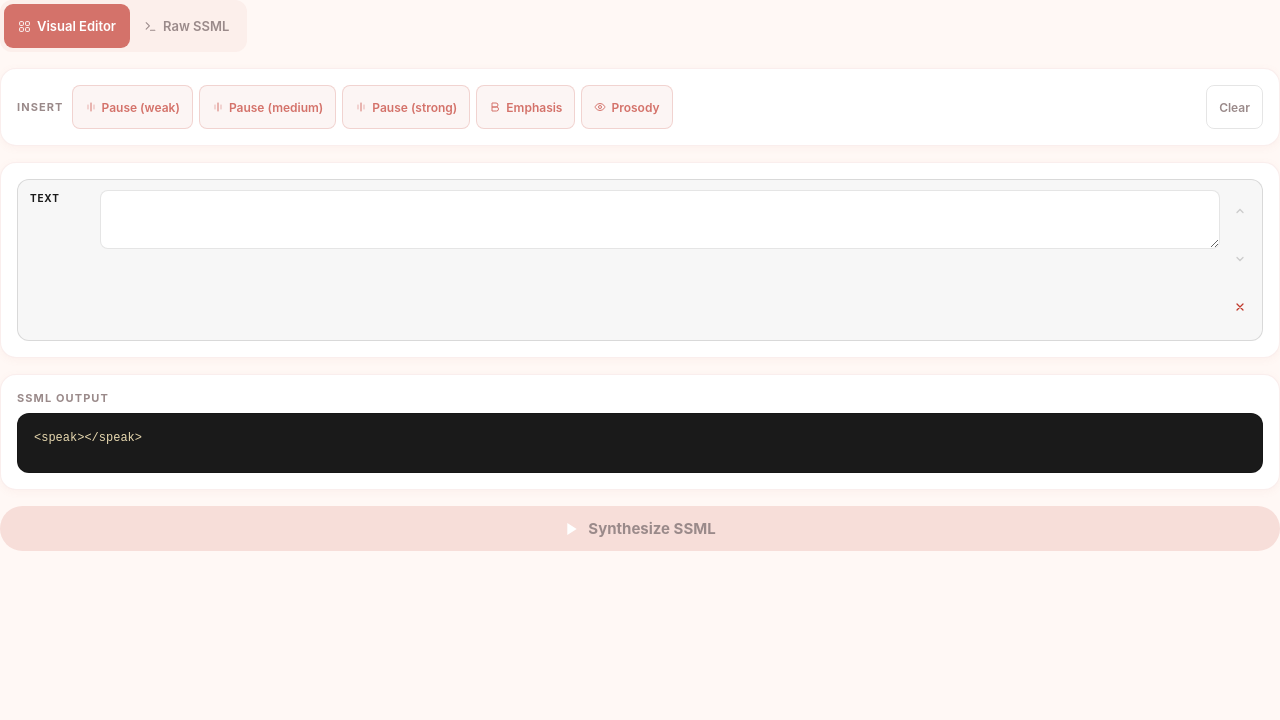
it: tag insertion › emphasis level can be changed via select
The width and height of the screenshot is (1280, 720).
Click the button with aria-label "insert emphasis" at x=526, y=107, box [476, 85, 575, 129]
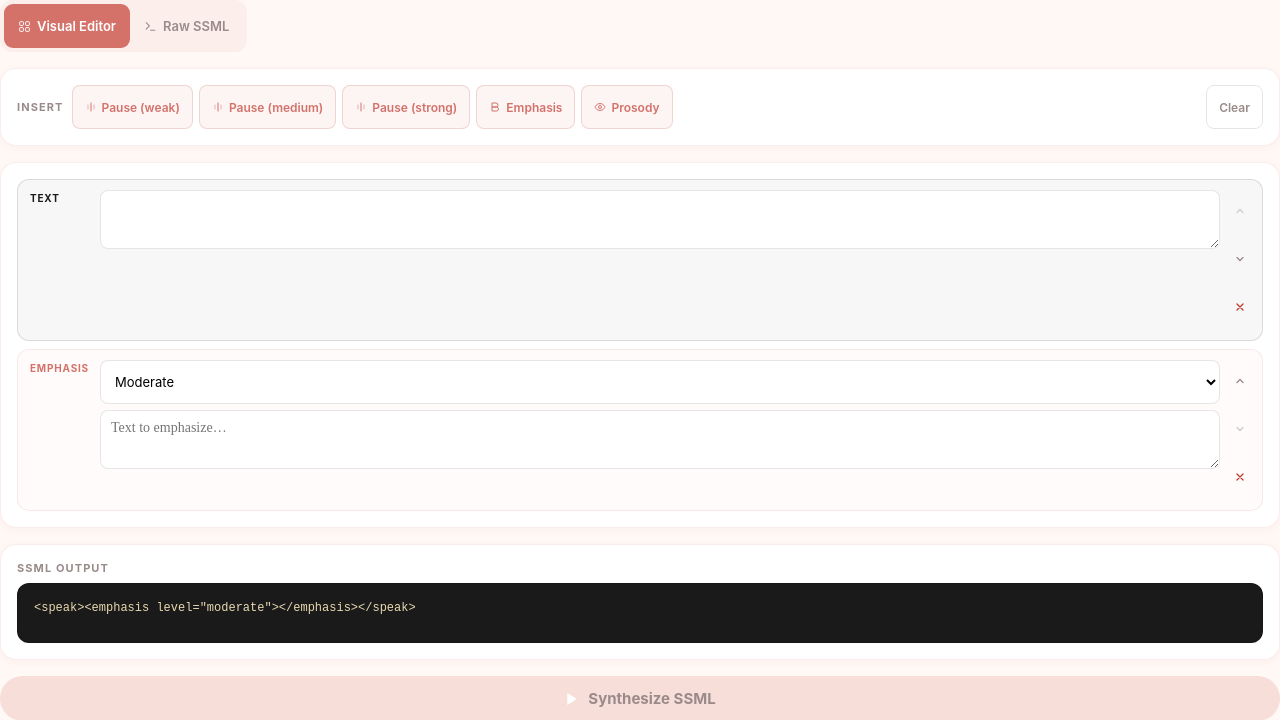
Select "Strong" in the dropdown named "Emphasis level" at x=660, y=382, box [100, 360, 1220, 404]
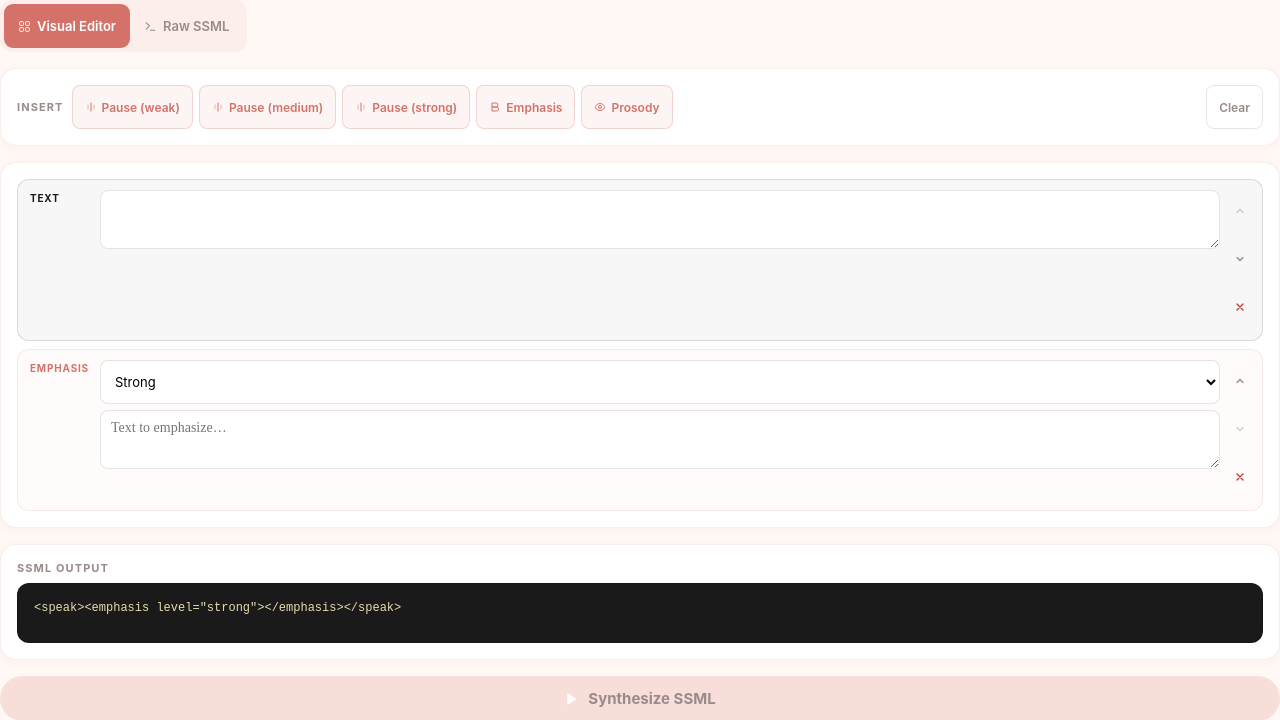
Check: the text named "Generated SSML" shows "level=\"strong\"", box [34, 601, 401, 615]
